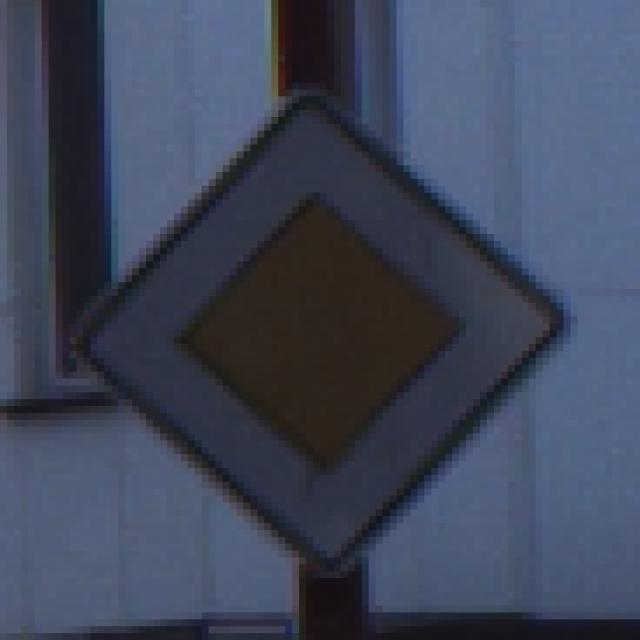Main Road: (57, 63, 585, 586)
